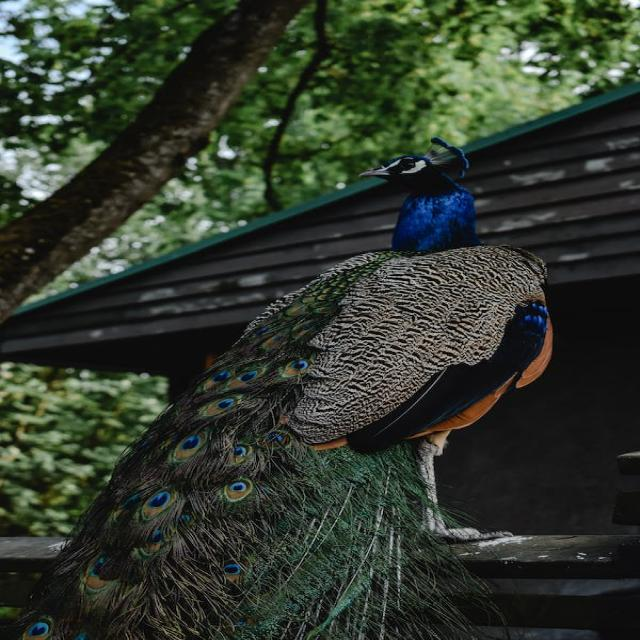peacock: (21, 135, 562, 640)
